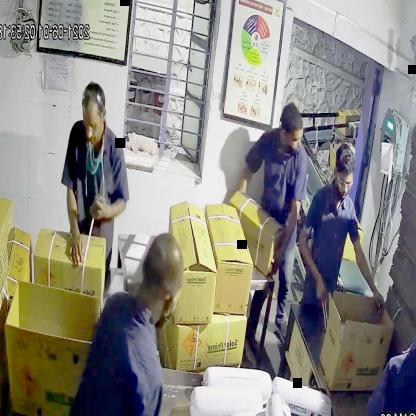goggles: (332, 168, 356, 196)
no_goggles: (82, 111, 108, 137)
